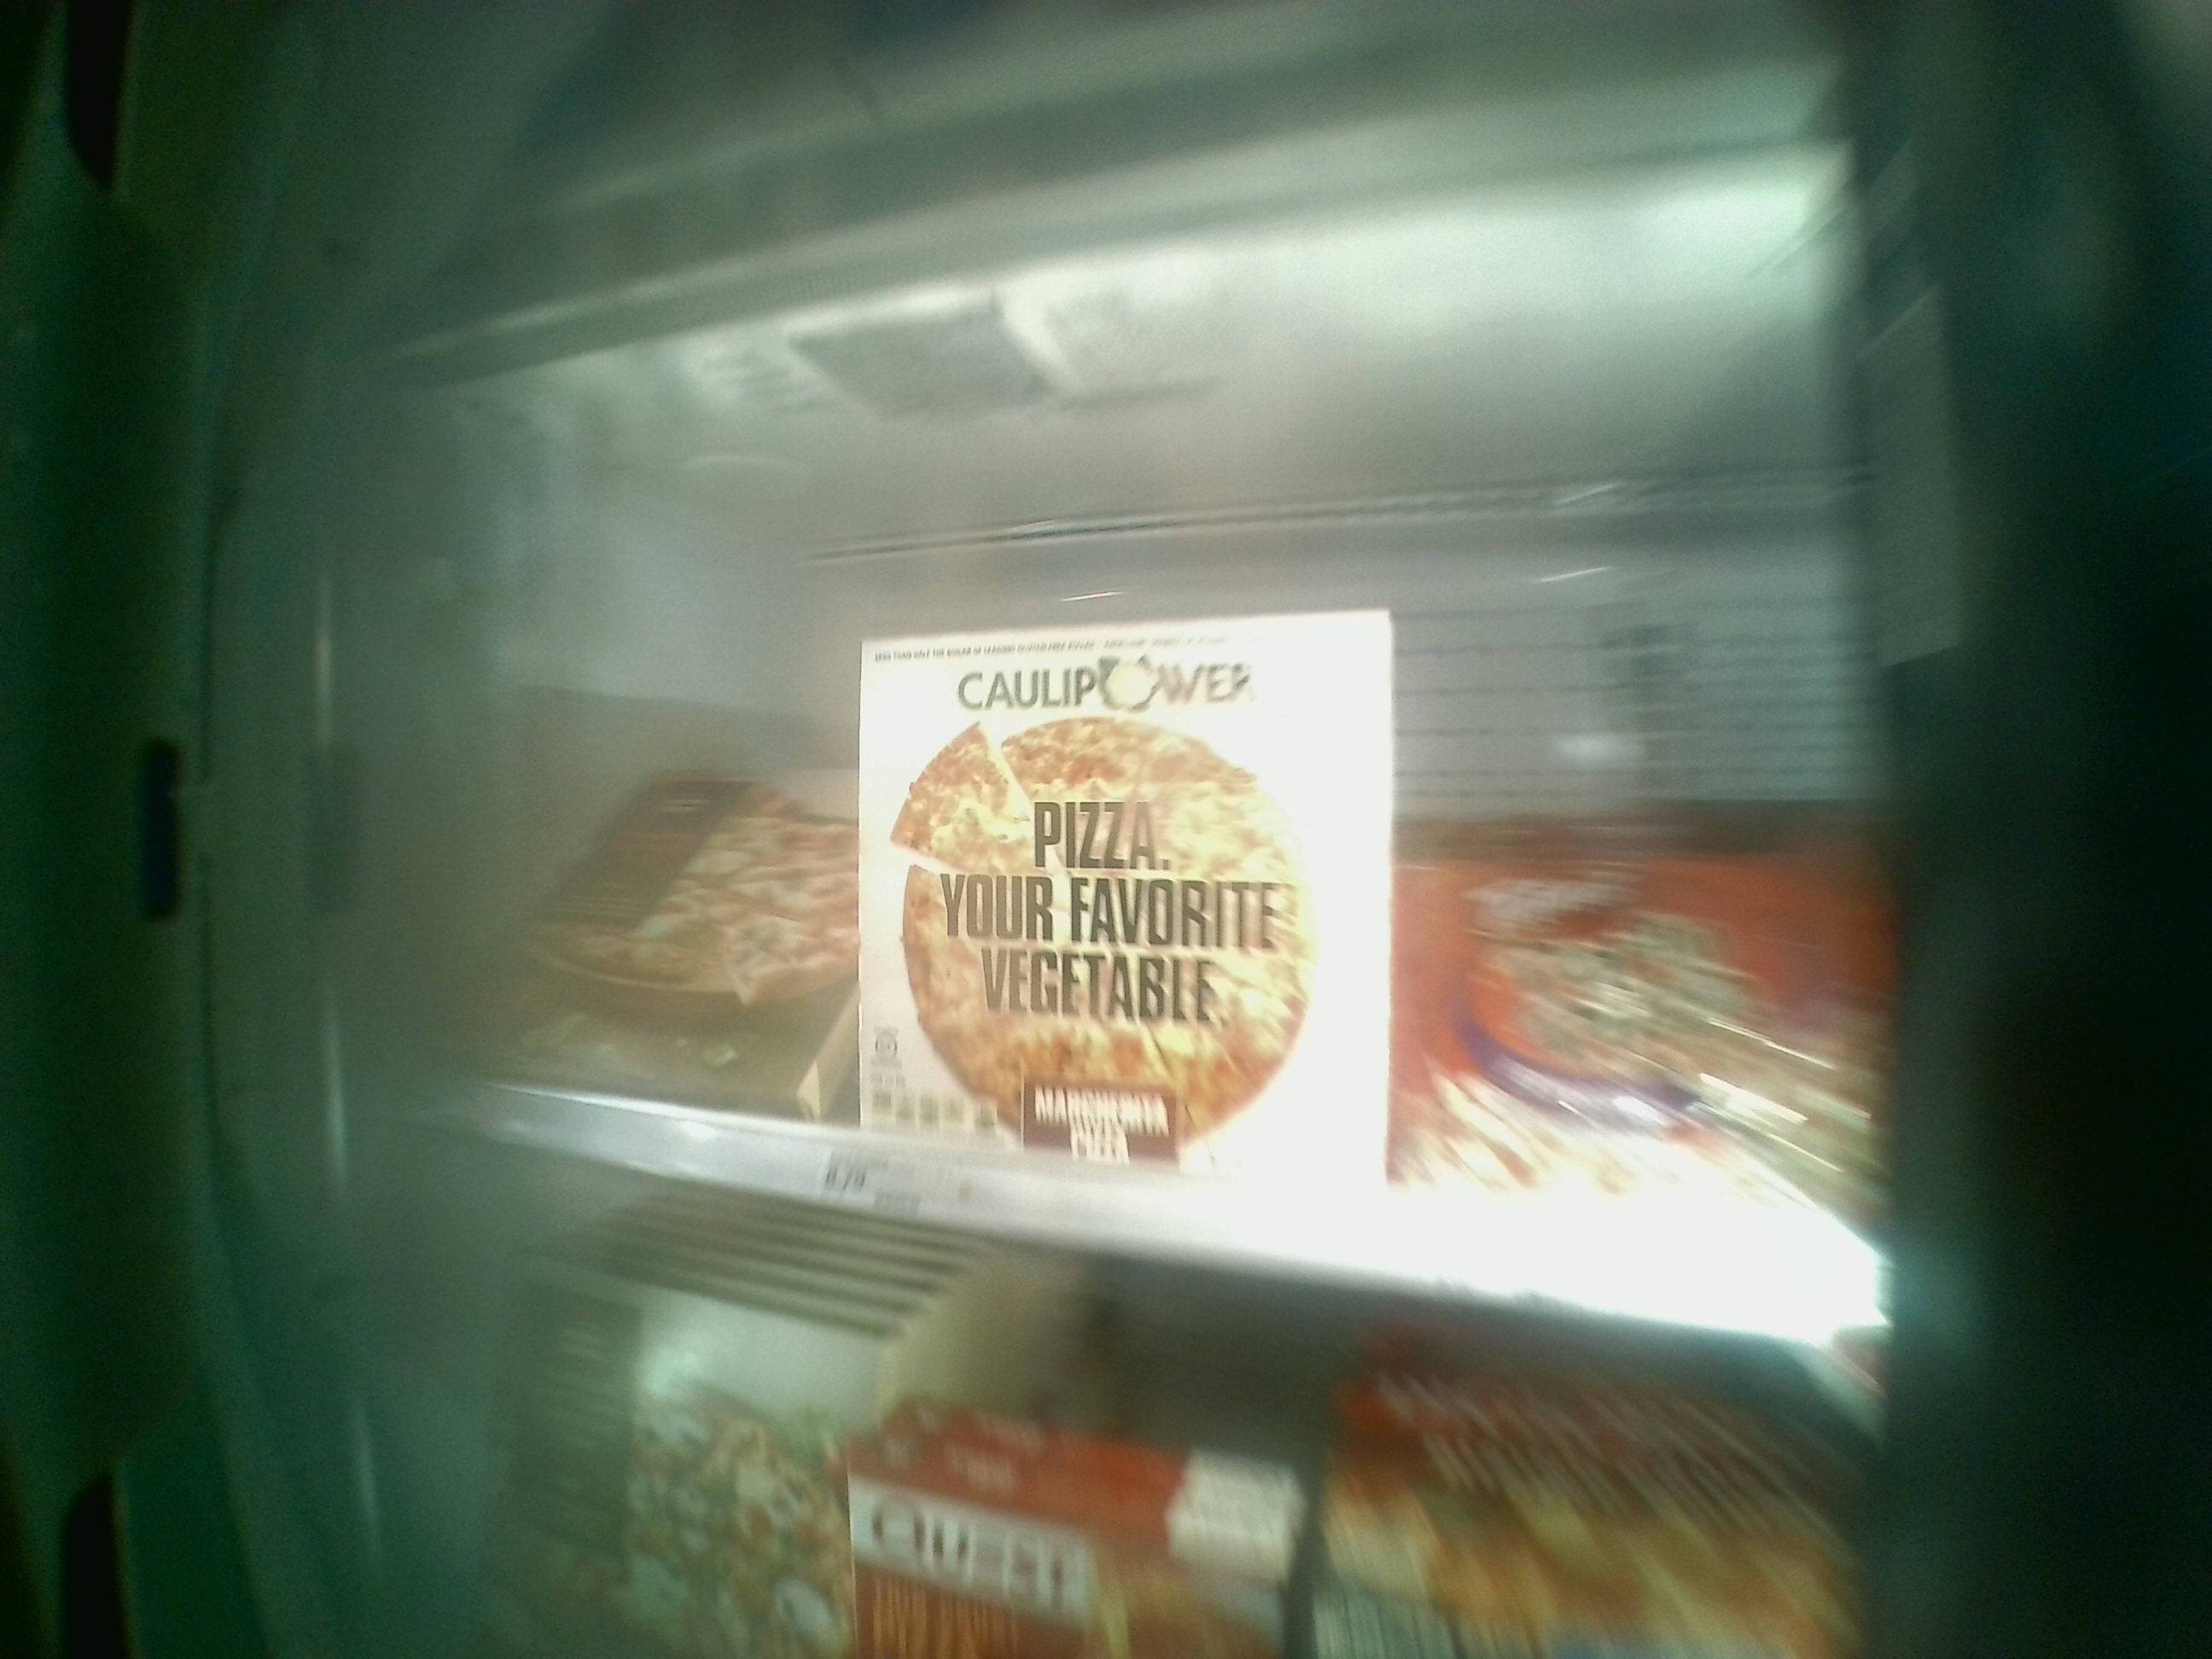pizza: (859, 627, 1381, 1185), (460, 1284, 862, 1647), (523, 706, 855, 1100)
